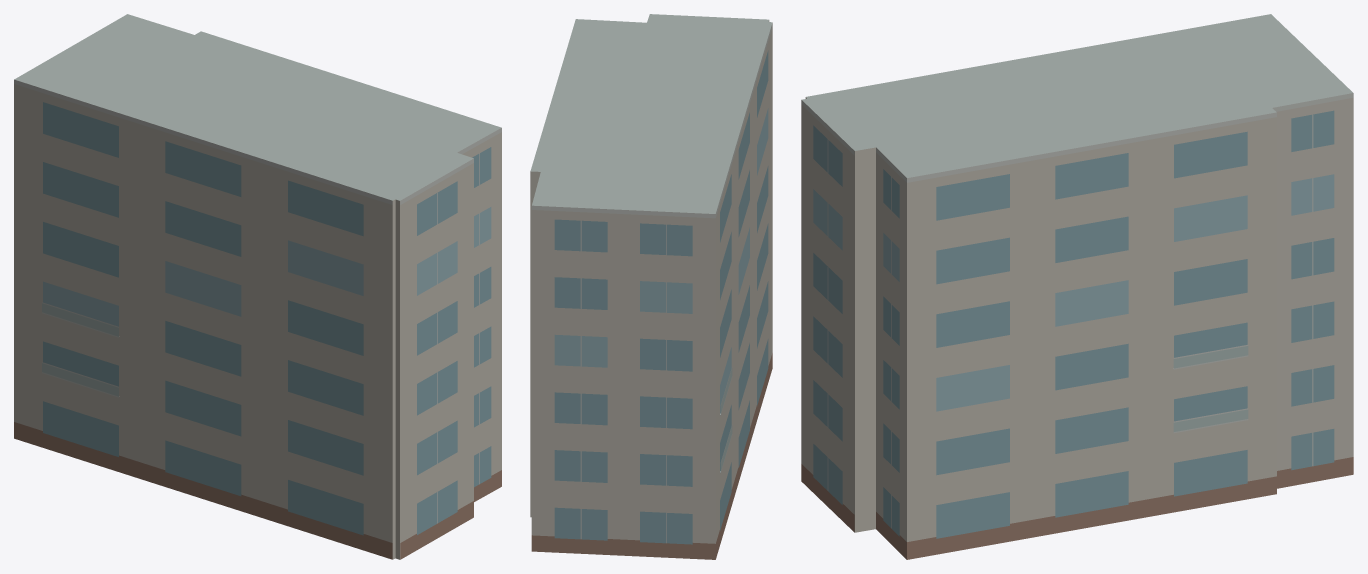
The model's file is survey-upis-32854659.glb.
3 views of the same model, side by side, from view 1: azimuth 30°, elevation 25°; view 2: azimuth 150°, elevation 25°; view 3: azimuth 270°, elevation 25° (orthographic). The views are drawn at different scales.
Visible parts, largest first — view 1: survey-upis-32854659.tmp; view 2: survey-upis-32854659.tmp; view 3: survey-upis-32854659.tmp.
Boxes of the visible parts, x1,y1,x2,y2 form: survey-upis-32854659.tmp: (14, 14, 501, 559); survey-upis-32854659.tmp: (530, 14, 772, 559); survey-upis-32854659.tmp: (801, 14, 1353, 559).
Bounding box in the file's own units: 18.29 × 19.82 × 25.99.
